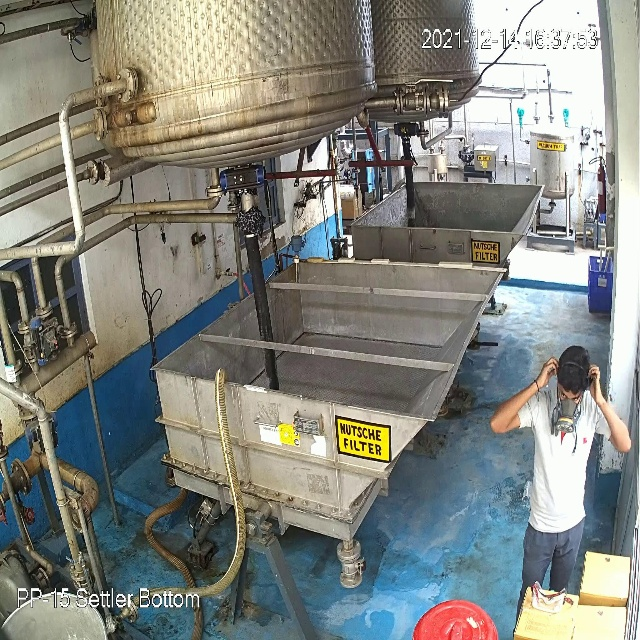Mascara: (553, 395, 580, 436)
Sin_gafas: (552, 383, 586, 406)
Sin_guantes: (486, 355, 558, 434), (588, 362, 632, 457)
